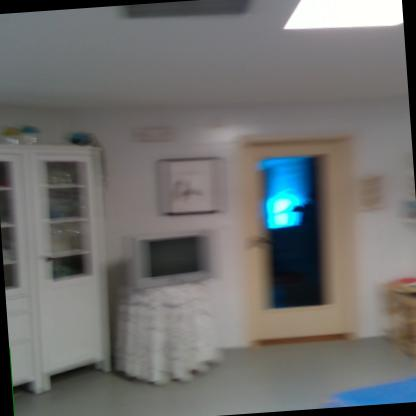closed: (236, 126, 368, 345)
